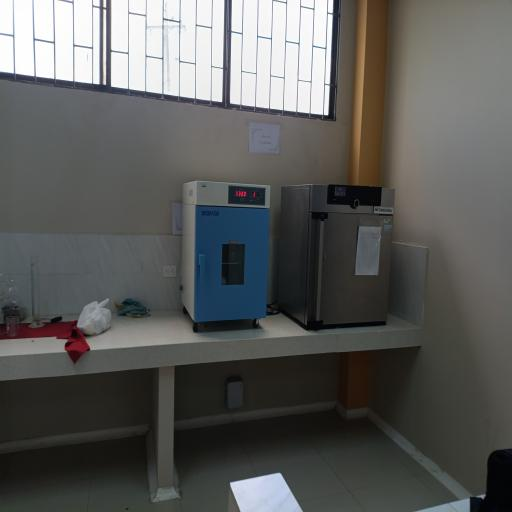Horno_Secado_Biobase: (176, 170, 276, 334)
Incubadora: (281, 176, 399, 337)
